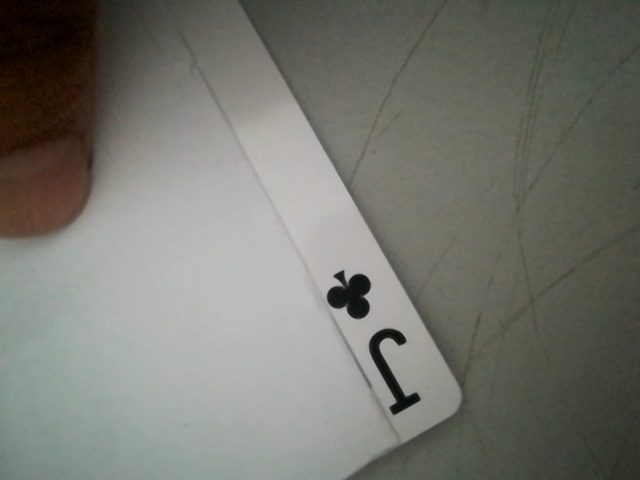mh j: (319, 257, 446, 427)
